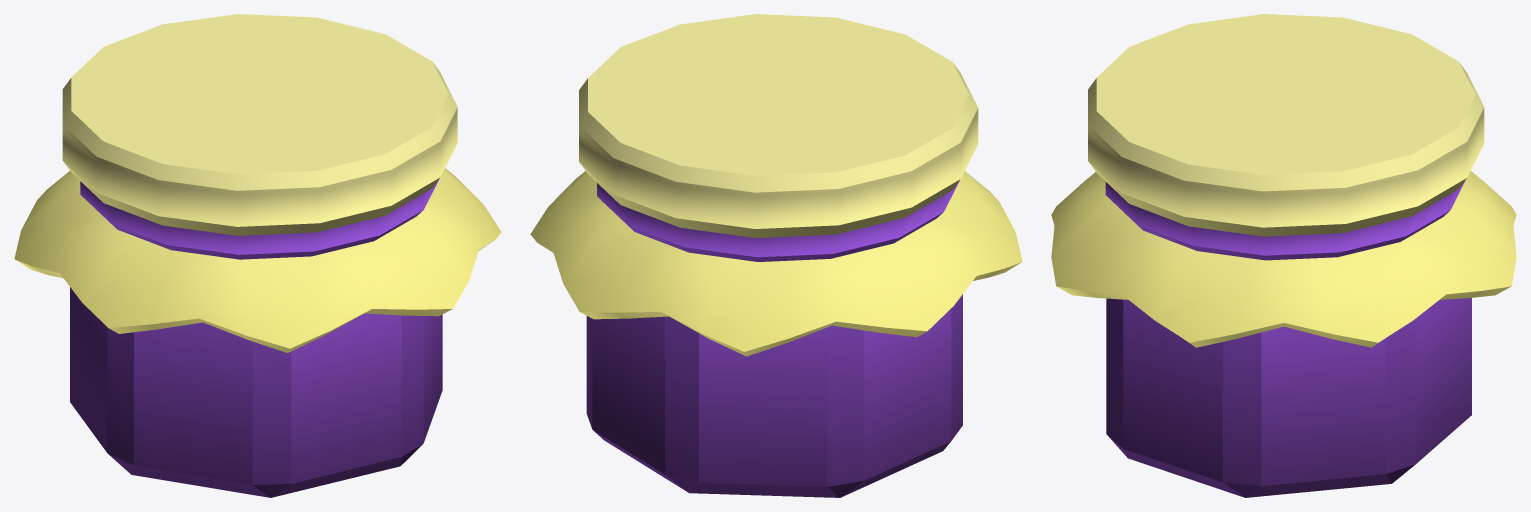
Rendered from jam_purple.fbx.
The picture shows the model from 3 angles, left to right: view 1: azimuth 30°, elevation 25°; view 2: azimuth 150°, elevation 25°; view 3: azimuth 270°, elevation 25°; orthographic projection.
Parts seen in each view (by area): view 1: jam_purple; view 2: jam_purple; view 3: jam_purple.
Boxes of the visible parts, x1,y1,x2,y2 form: jam_purple: (14,14,501,497); jam_purple: (530,14,1022,497); jam_purple: (1051,14,1516,497).
Bounding box in the file's own units: 78.24 × 61.62 × 78.24.
